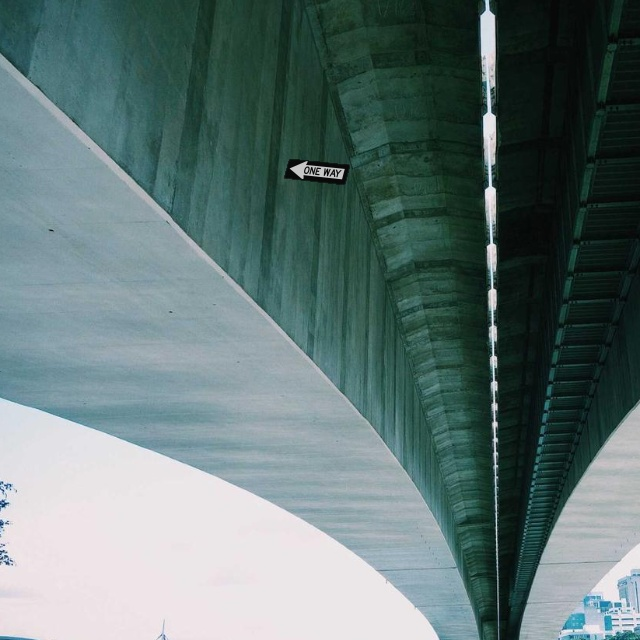ONE_WAY_ left: (283, 158, 350, 185)
